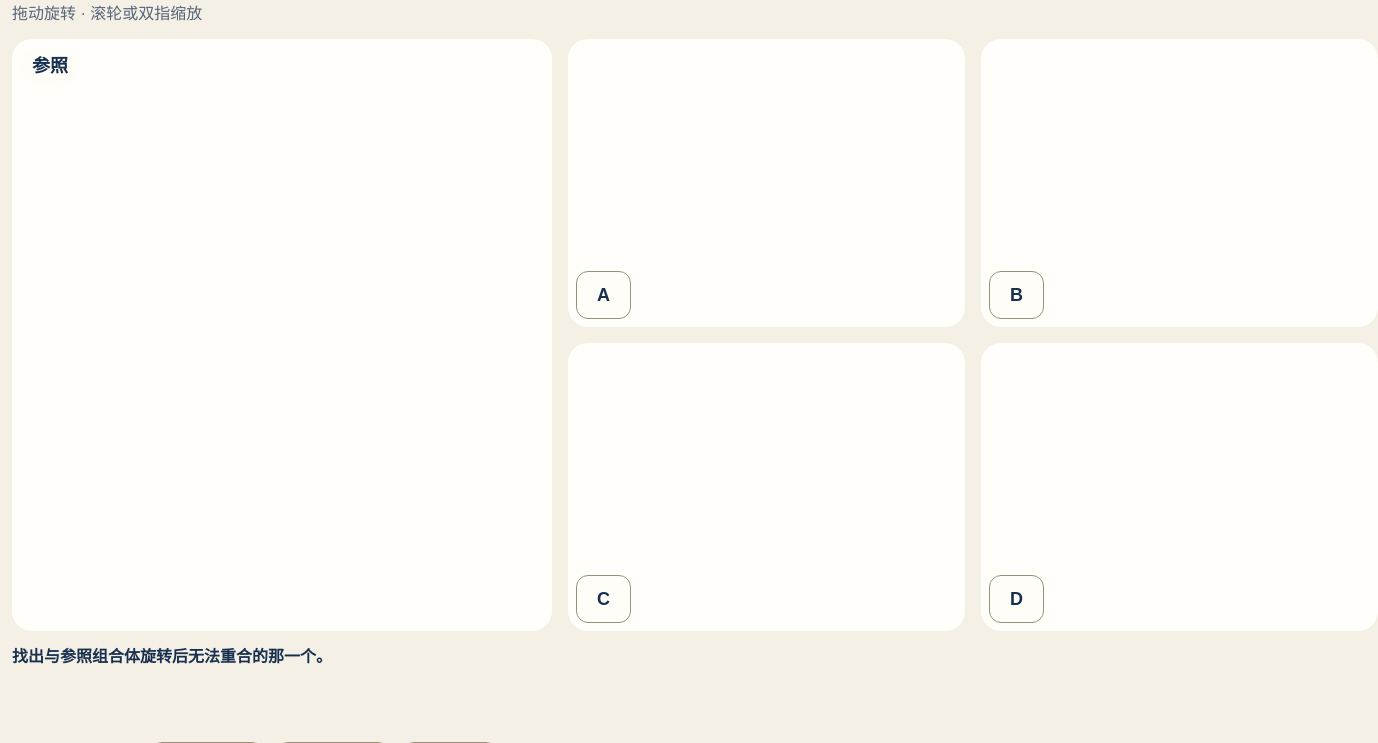
Test: 组合体找不同 › 选中错误答案提示再想想
Click the radio button labelled "B" at (1016,295), box top-left (989, 271), bottom-right (1044, 319)
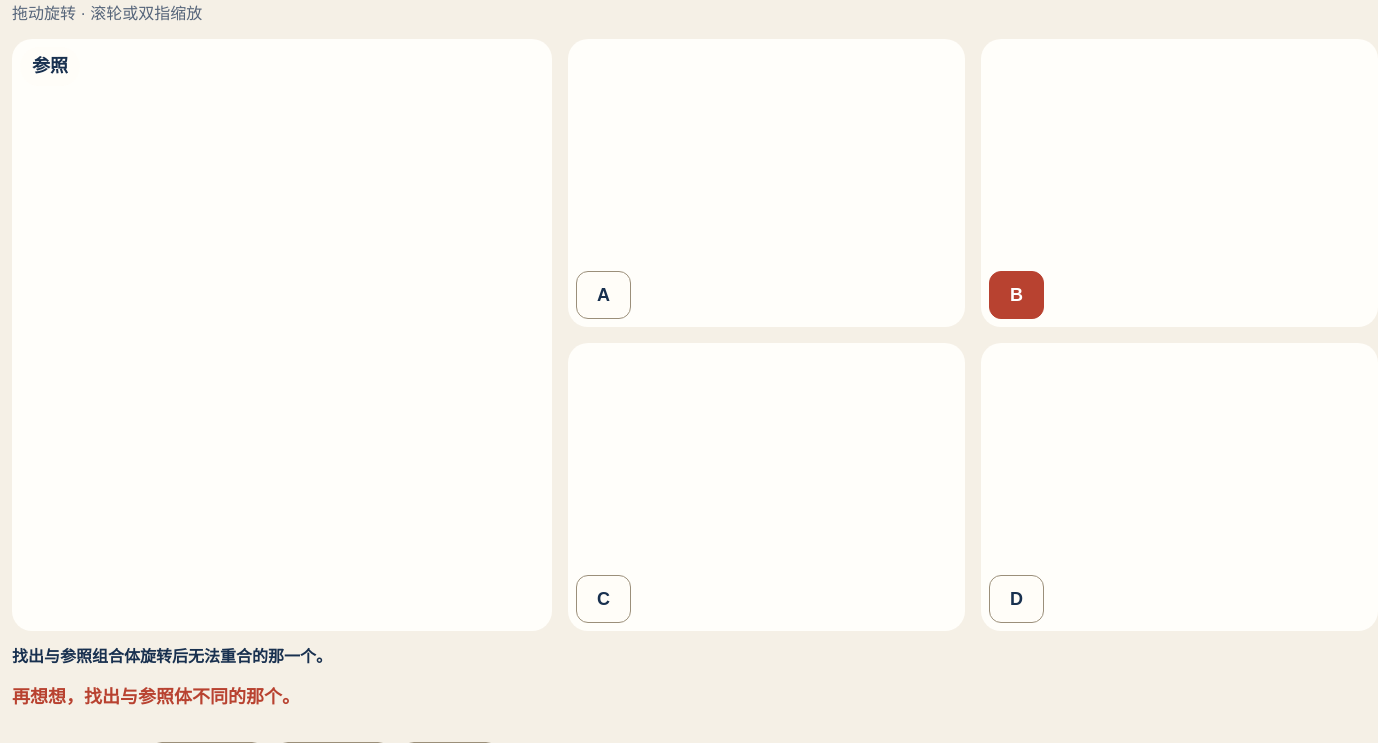
Now the message shows "再想想", box top-left (12, 687), bottom-right (300, 707)
